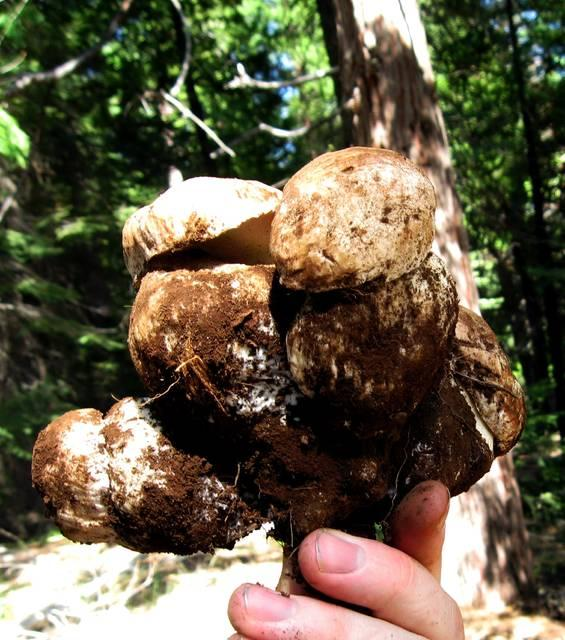edible_mushroom: (30, 144, 527, 594)
